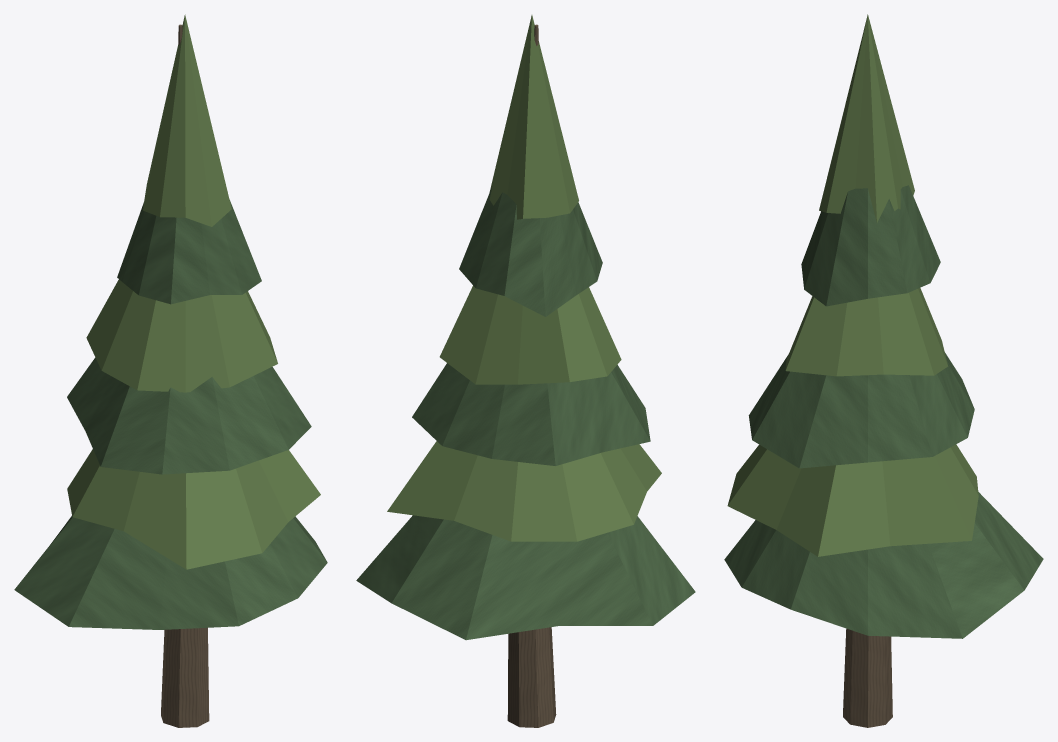
File: pine_tall.glb
3 renders of one model, left to right at view 1: azimuth 30°, elevation 25°; view 2: azimuth 150°, elevation 25°; view 3: azimuth 270°, elevation 25°, orthographic.
Visible parts, largest first — view 1: pine_tall; view 2: pine_tall; view 3: pine_tall.
Part boxes in pixels (x1,y1,x2,y2): pine_tall: [14, 14, 327, 727]; pine_tall: [356, 15, 695, 727]; pine_tall: [724, 14, 1043, 727].
Size of the model in its own units: 2.42 by 5.89 by 2.42.
3 materials, 2 textured.
